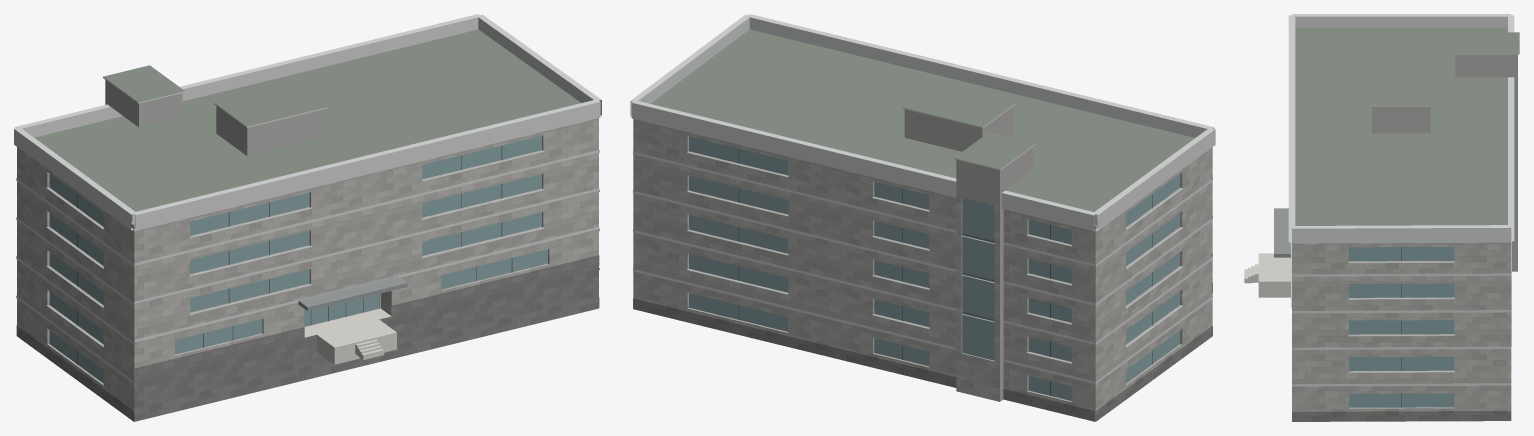
The picture shows the model from 3 angles, left to right: view 1: azimuth 30°, elevation 25°; view 2: azimuth 150°, elevation 25°; view 3: azimuth 270°, elevation 25°; orthographic projection. The views are drawn at different scales.
Parts seen in each view (by area): view 1: b130__wall, b130__roof, b130__trim, b130__base, b130__glass, b130__wall2, b130__entranceStair, b130__canopy; view 2: b130__wall, b130__roof, b130__trim, b130__glass, b130__base, b130__wall2; view 3: b130__roof, b130__wall, b130__trim, b130__glass, b130__wall2, b130__base, b130__entranceStair, b130__canopy.
Part boxes in pixels (<box>): b130__wall: <box>17,118,598,421</box>; b130__roof: <box>34,29,597,421</box>; b130__trim: <box>14,14,601,383</box>; b130__base: <box>16,255,599,421</box>; b130__glass: <box>49,136,547,383</box>; b130__wall2: <box>105,80,325,156</box>; b130__entranceStair: <box>304,308,396,364</box>; b130__canopy: <box>298,276,407,310</box>; b130__wall: <box>633,119,1212,421</box>; b130__roof: <box>650,29,1194,226</box>; b130__trim: <box>630,14,1215,383</box>; b130__glass: <box>689,136,1179,400</box>; b130__base: <box>633,283,1212,421</box>; b130__wall2: <box>904,106,1033,401</box>; b130__roof: <box>1295,28,1519,421</box>; b130__wall: <box>1292,242,1511,411</box>; b130__trim: <box>1288,14,1519,386</box>; b130__glass: <box>1349,246,1454,407</box>; b130__wall2: <box>1372,54,1517,271</box>; b130__base: <box>1292,411,1511,421</box>; b130__entranceStair: <box>1244,253,1290,297</box>; b130__canopy: <box>1274,208,1290,257</box>.
Size of the model in its own units: 45.29 by 21.53 by 24.55.
Materials: 10 (2 with a texture image).
